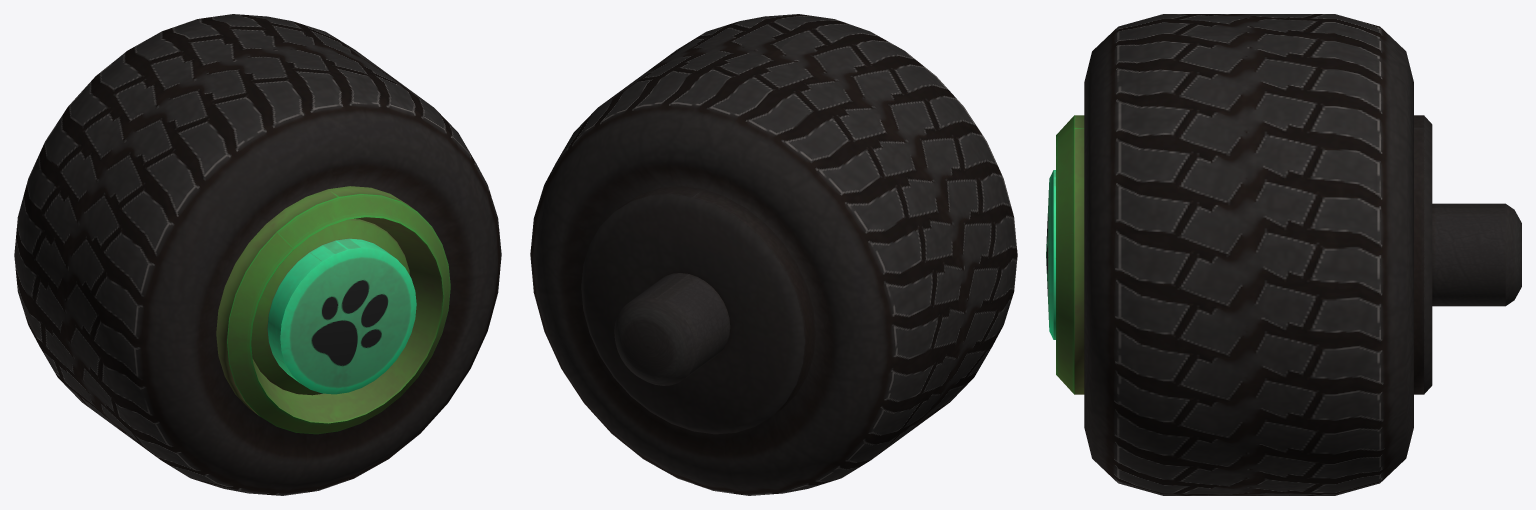
Rendered from mrsbaxter_wheel3.obj.
3 views of the same model, side by side, from view 1: azimuth 30°, elevation 25°; view 2: azimuth 150°, elevation 25°; view 3: azimuth 270°, elevation 25° (orthographic). The views are drawn at different scales.
Visible parts, largest first — view 1: wheels_low.004; view 2: wheels_low.004; view 3: wheels_low.004.
Boxes of the visible parts, left/top/right/bottom form: wheels_low.004: left=14, top=14, right=501, bottom=495; wheels_low.004: left=530, top=14, right=1017, bottom=495; wheels_low.004: left=1046, top=14, right=1521, bottom=495.
Bounding box in the file's own units: 1.13 × 1.13 × 1.12.
1 material, 1 textured.
